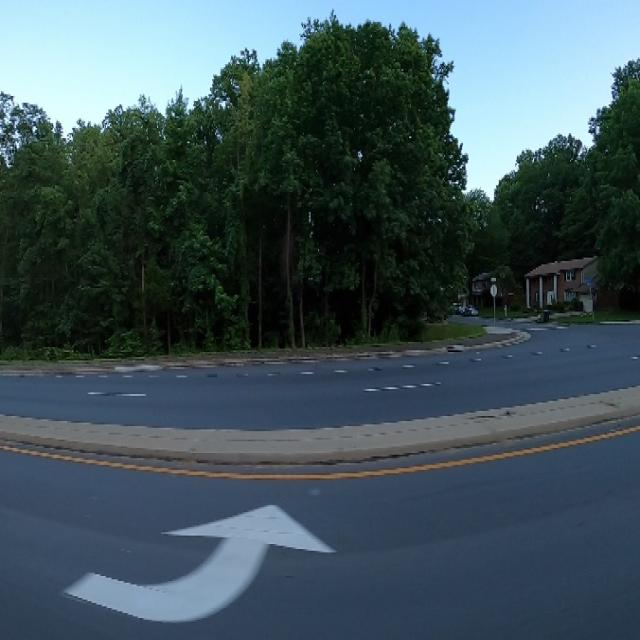cars: (462, 301, 479, 320)
